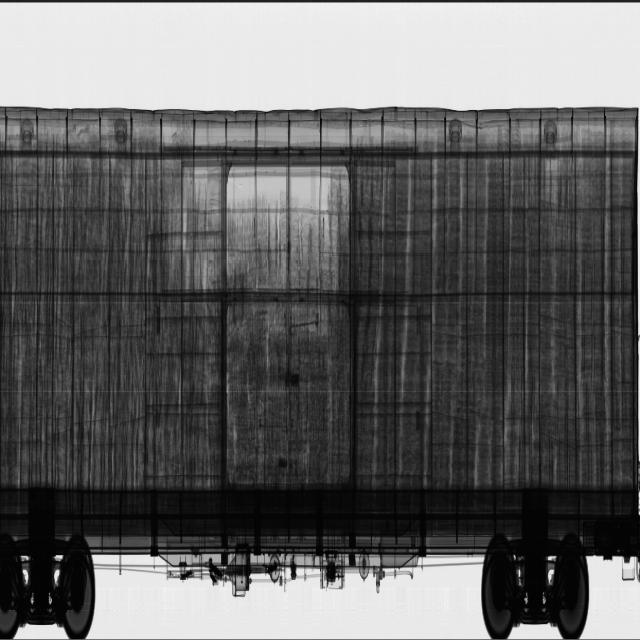textile: (242, 131, 359, 483)
